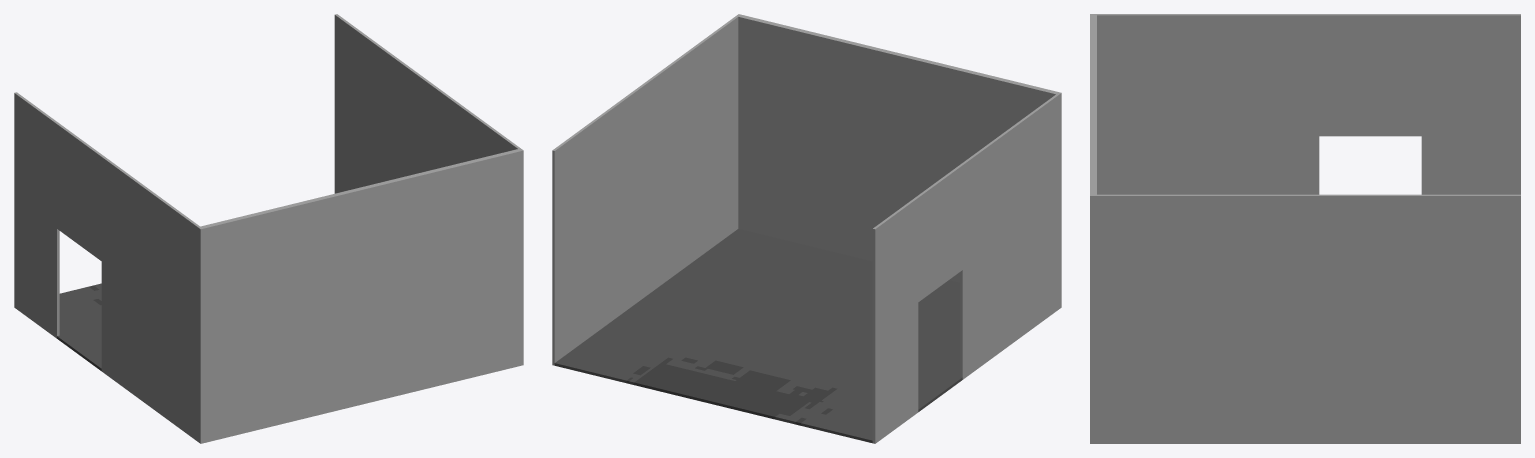
File: 4x2 third (1)-3.obj
The picture shows the model from 3 angles, left to right: view 1: azimuth 30°, elevation 25°; view 2: azimuth 150°, elevation 25°; view 3: azimuth 270°, elevation 25°; orthographic projection. The views are drawn at different scales.
Parts seen in each view (by area): view 1: 4x2 third (1)-3; view 2: 4x2 third (1)-3; view 3: 4x2 third (1)-3.
Boxes of the visible parts, bbox=[...] form: 4x2 third (1)-3: bbox=[14, 14, 523, 443]; 4x2 third (1)-3: bbox=[552, 14, 1061, 443]; 4x2 third (1)-3: bbox=[1090, 14, 1520, 443].
Bounding box in the file's own units: 126 × 80 × 126.
Materials: 1 (1 with a texture image).
